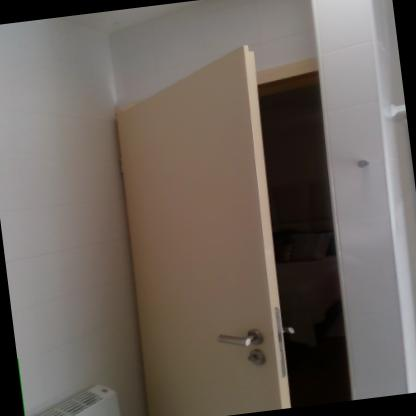semi: (91, 60, 370, 415)
